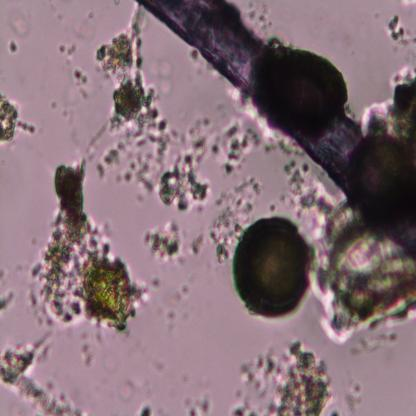Background material: (84, 23, 210, 211), (20, 156, 144, 335), (0, 326, 96, 416), (254, 36, 342, 130), (231, 340, 333, 416), (264, 136, 332, 228), (192, 168, 257, 264), (200, 103, 265, 176), (364, 75, 416, 139), (0, 81, 39, 147), (141, 217, 185, 263), (142, 53, 177, 94), (350, 331, 396, 357), (384, 13, 416, 49), (60, 13, 96, 42), (244, 0, 273, 36), (43, 94, 75, 124), (339, 375, 365, 411), (73, 61, 93, 105), (80, 331, 98, 368), (55, 38, 78, 66), (184, 395, 213, 416), (8, 8, 28, 38), (0, 290, 23, 314), (148, 353, 167, 372), (2, 34, 21, 51), (122, 380, 137, 400), (179, 278, 190, 300), (168, 304, 176, 328), (150, 275, 162, 290), (140, 401, 152, 416), (181, 374, 191, 386)
Cotton: (134, 0, 416, 241)
Diatom: (312, 213, 409, 326), (229, 216, 312, 321), (343, 131, 416, 235)
